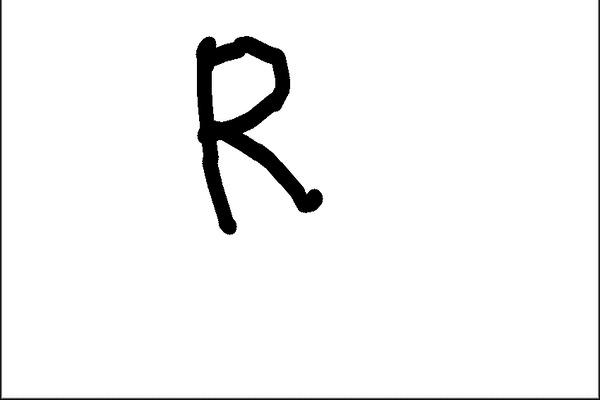R: (183, 34, 327, 239)
